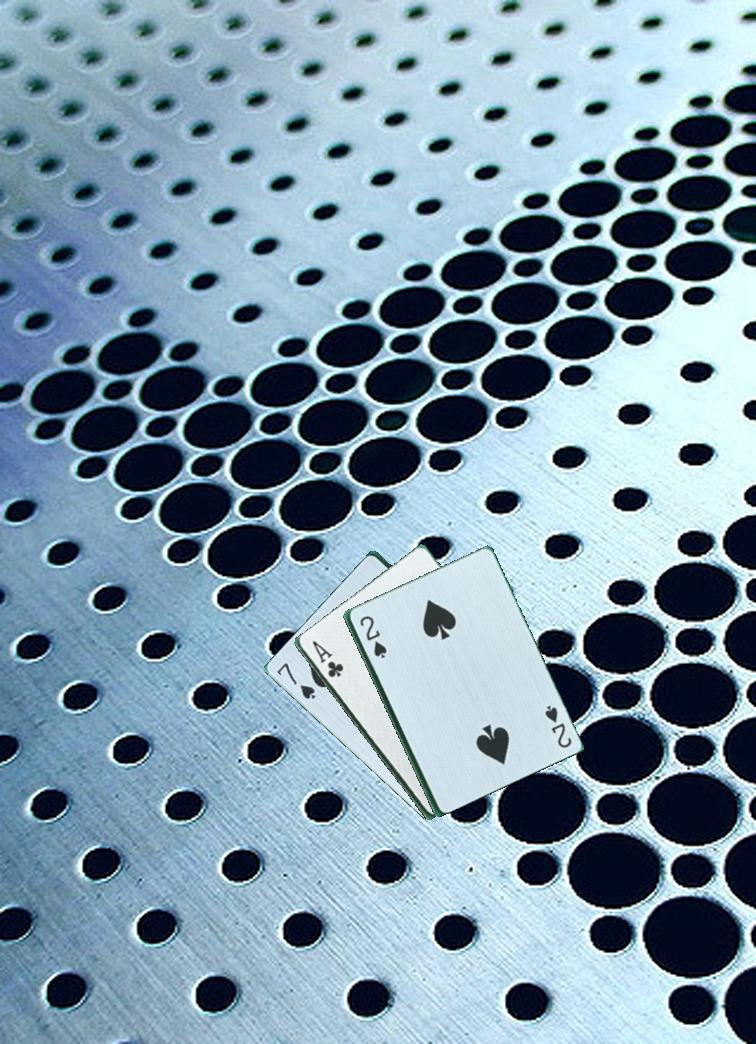2s: (536, 701, 574, 751), (356, 606, 388, 661)
7s: (273, 659, 318, 702)
ac: (308, 637, 345, 680)
